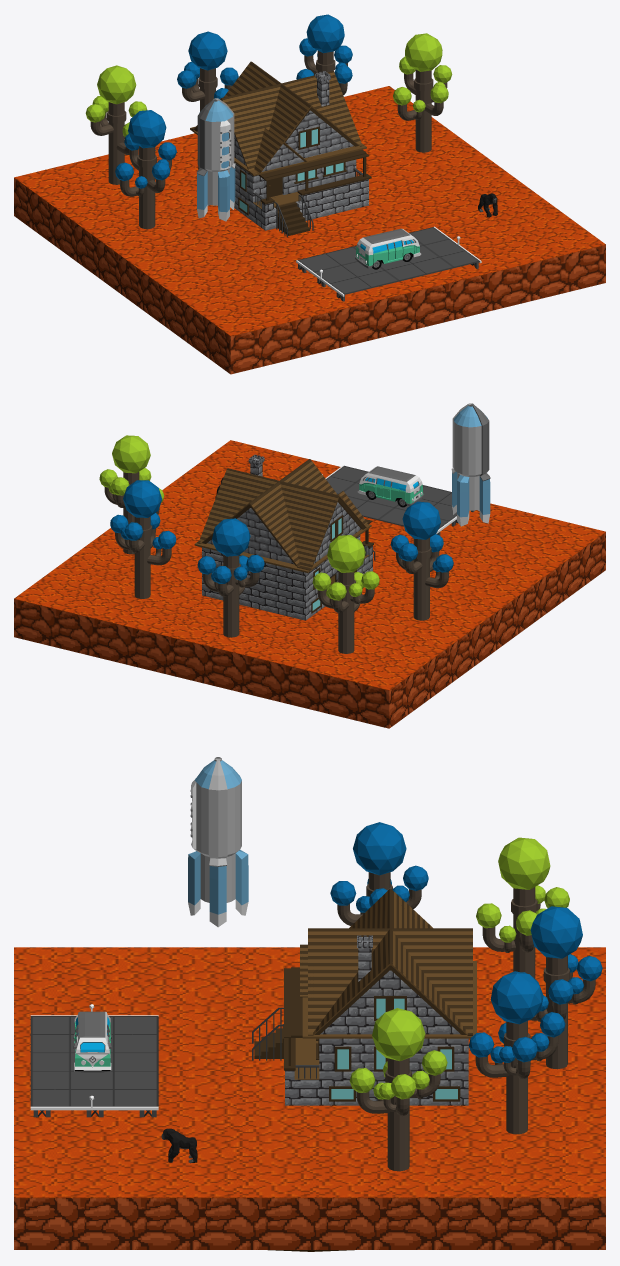
3 renders of one model, top to bottom at view 1: azimuth 30°, elevation 25°; view 2: azimuth 150°, elevation 25°; view 3: azimuth 270°, elevation 25°, orthographic. The views are drawn at different scales.
Parts seen in each view (by area): view 1: Cube.001, Cube.586, OBJRANDOM_ROCKETSHIP, VEHICLES_VAN; view 2: Cube.001, Cube.586, OBJRANDOM_ROCKETSHIP, VEHICLES_VAN; view 3: Cube.001, Cube.586, OBJRANDOM_ROCKETSHIP, VEHICLES_VAN, ANIMAL_GORILA.
Boxes of the visible parts, left/top/right/bottom form: Cube.001: left=14, top=14, right=605, bottom=374; Cube.586: left=190, top=61, right=371, bottom=236; OBJRANDOM_ROCKETSHIP: left=196, top=98, right=235, bottom=221; VEHICLES_VAN: left=355, top=228, right=421, bottom=269; Cube.001: left=14, top=435, right=605, bottom=728; Cube.586: left=194, top=454, right=375, bottom=620; OBJRANDOM_ROCKETSHIP: left=451, top=403, right=490, bottom=526; VEHICLES_VAN: left=357, top=466, right=424, bottom=507; Cube.001: left=14, top=822, right=605, bottom=1249; Cube.586: left=252, top=889, right=476, bottom=1105; OBJRANDOM_ROCKETSHIP: left=188, top=757, right=248, bottom=927; VEHICLES_VAN: left=73, top=1011, right=111, bottom=1072; ANIMAL_GORILA: left=161, top=1128, right=197, bottom=1163.
Bounding box in the file's own units: 4000 × 2242 × 4000.
Materials: 35 (5 with a texture image).
